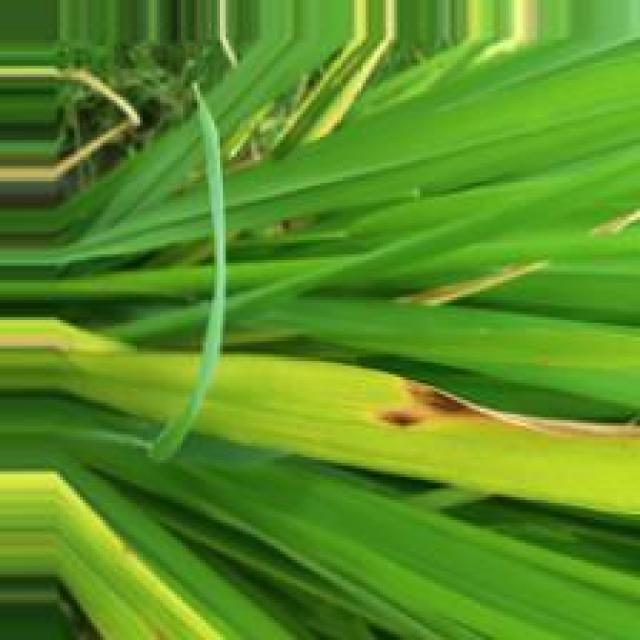Brown_Spot: (365, 377, 496, 435)
